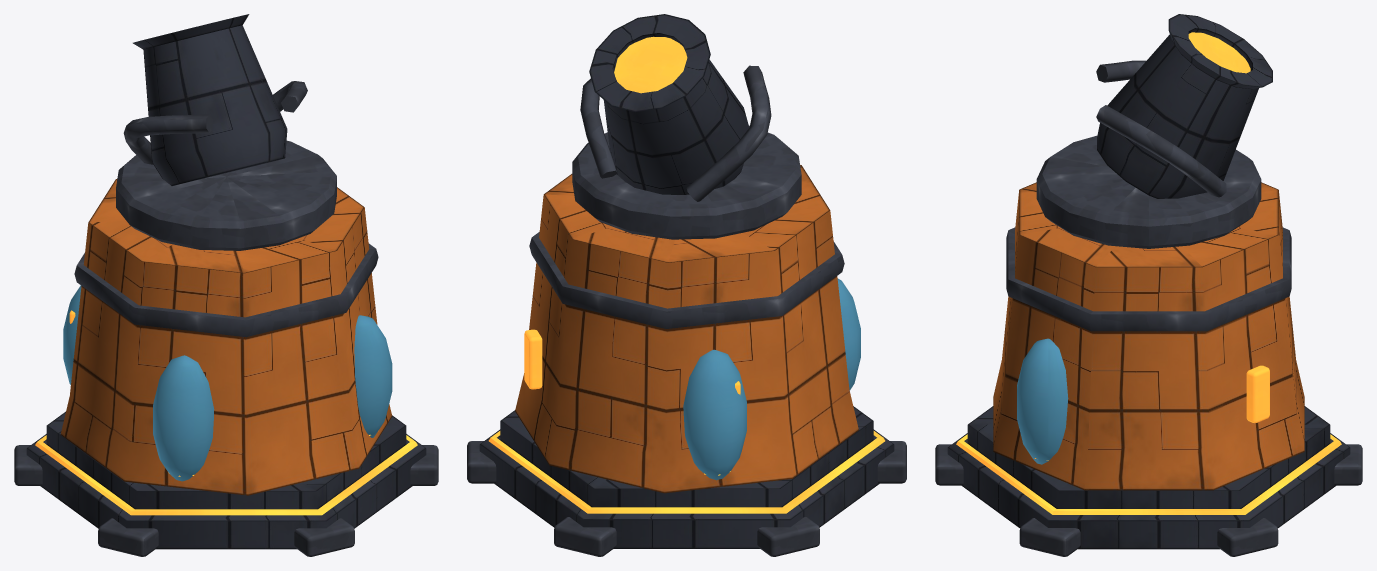
Rendered from sf_ember.glb.
The picture shows the model from 3 angles, left to right: view 1: azimuth 30°, elevation 25°; view 2: azimuth 150°, elevation 25°; view 3: azimuth 270°, elevation 25°; orthographic projection. The views are drawn at different scales.
Visible parts, largest first — view 1: Base, Turret; view 2: Base, Turret; view 3: Base, Turret.
Part boxes in pixels (box(x1,y1,x2,y2)): Base: box(14, 179, 438, 556); Turret: box(116, 14, 336, 250); Base: box(467, 165, 906, 556); Turret: box(572, 14, 801, 239); Base: box(935, 182, 1362, 556); Turret: box(1036, 14, 1272, 248).
Bounding box in the file's own units: 0.8425 × 1.06 × 0.9128.
5 materials, 5 textured.
